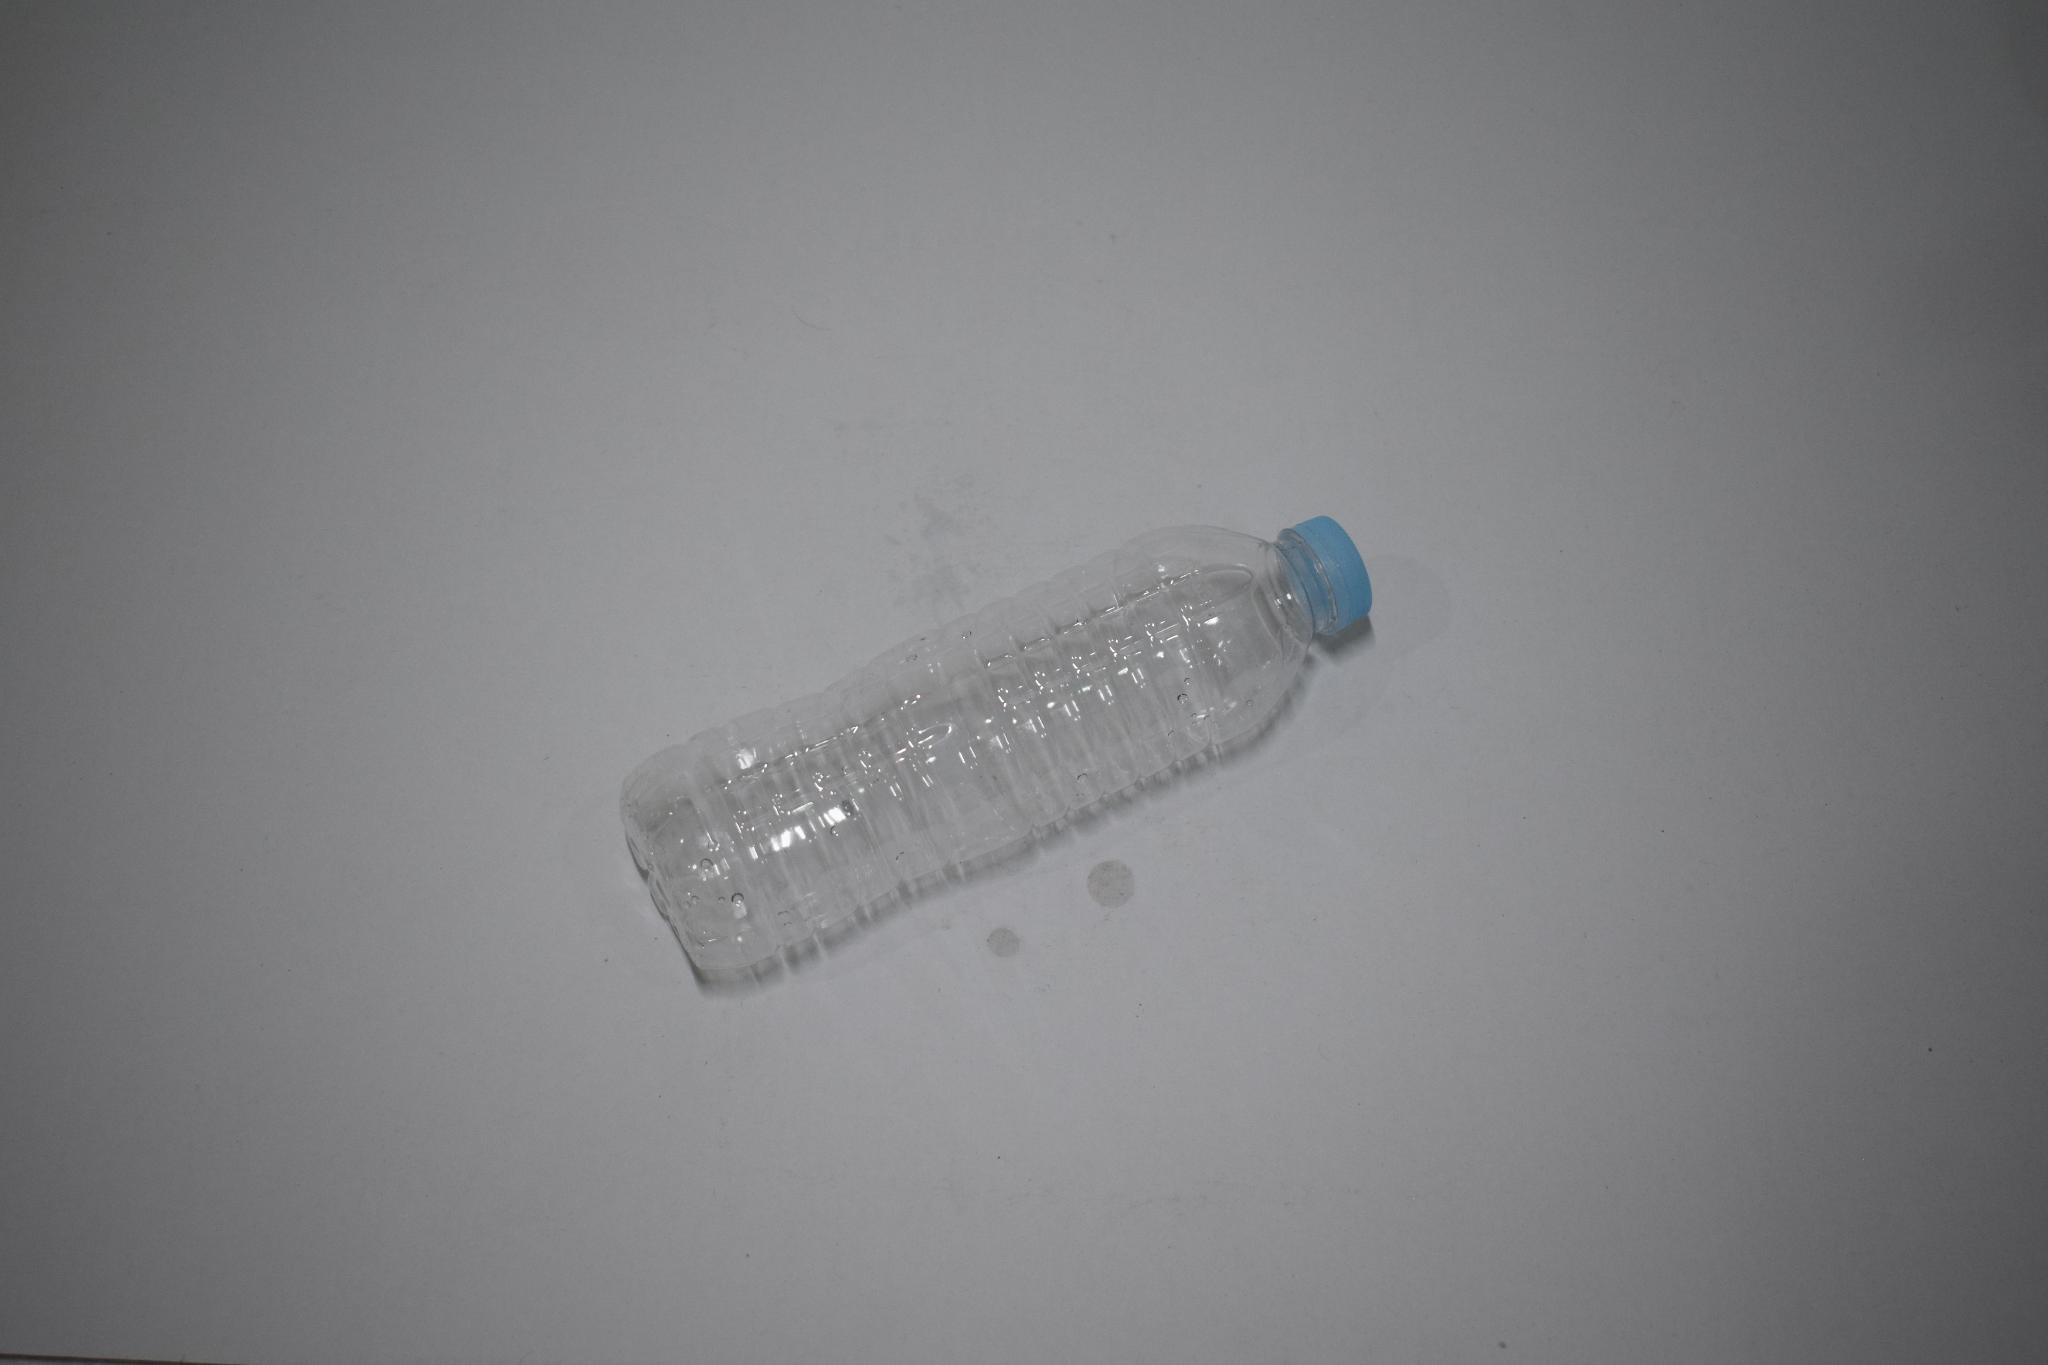bottle: (610, 504, 1386, 1004)
